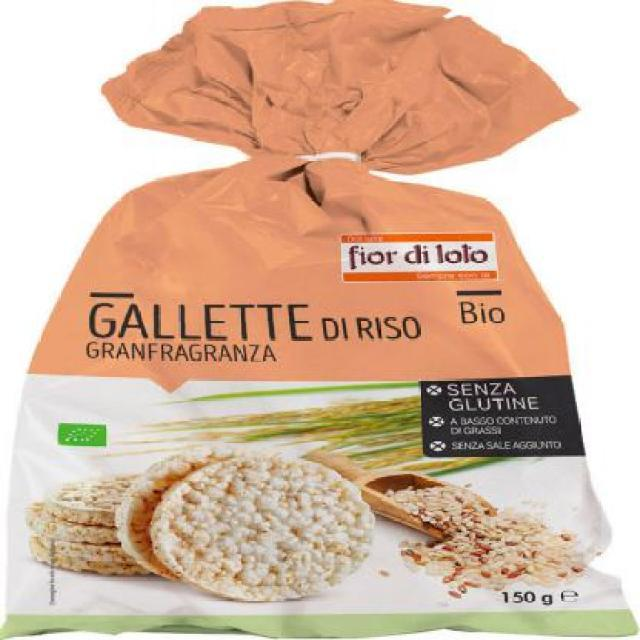Gallette di riso: (15, 6, 634, 638)
